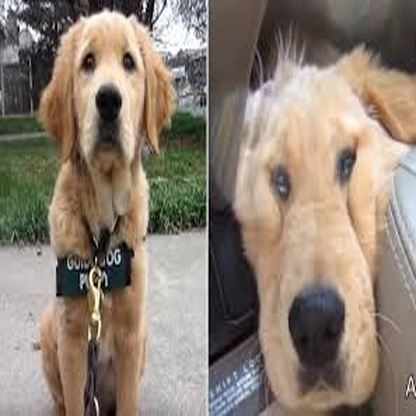guide-dog: (226, 35, 404, 416), (26, 11, 171, 416)
